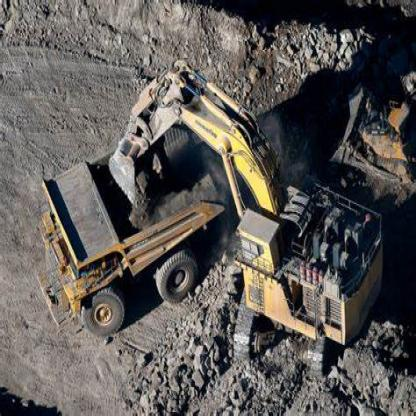dump_truck: (38, 146, 221, 332)
excavator: (107, 69, 392, 372)
